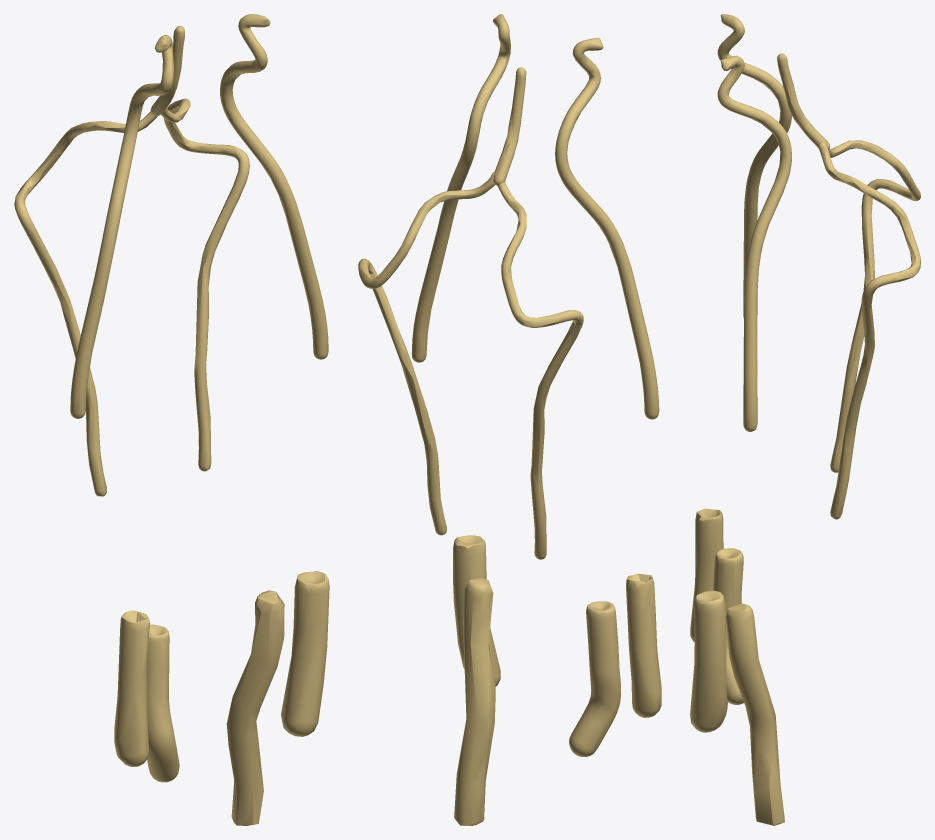
Rendered from head-neck.glb.
3 views of the same model, side by side, from view 1: azimuth 30°, elevation 25°; view 2: azimuth 150°, elevation 25°; view 3: azimuth 270°, elevation 25° (orthographic). The views are drawn at different scales.
Visible parts, largest first — view 1: bp3d_FMA4058_FJ3483, bp3d_FMA3949_FJ1682, bp3d_FMA4062_FJ1682M, bp3d_FMA4762_FJ3485, bp3d_FMA4066_FJ1725M, bp3d_FMA3958_FJ1725, bp3d_FMA4754_FJ3585, bp3d_FMA3941_FJ3564, bp3d_FMA50542_FJ1844; view 2: bp3d_FMA4058_FJ3483, bp3d_FMA3949_FJ1682, bp3d_FMA4066_FJ1725M, bp3d_FMA3958_FJ1725, bp3d_FMA4062_FJ1682M, bp3d_FMA3941_FJ3564, bp3d_FMA4754_FJ3585, bp3d_FMA4762_FJ3485, bp3d_FMA50542_FJ1844; view 3: bp3d_FMA4058_FJ3483, bp3d_FMA4062_FJ1682M, bp3d_FMA4066_FJ1725M, bp3d_FMA4762_FJ3485, bp3d_FMA3958_FJ1725, bp3d_FMA3949_FJ1682, bp3d_FMA4754_FJ3585, bp3d_FMA3941_FJ3564, bp3d_FMA50542_FJ1672, bp3d_FMA50542_FJ1844.
Part boxes in pixels (x1,y1,x2,y2): bp3d_FMA4058_FJ3483: (226,590,284,825); bp3d_FMA3949_FJ1682: (70,35,173,418); bp3d_FMA4062_FJ1682M: (220,14,328,359); bp3d_FMA4762_FJ3485: (281,571,329,736); bp3d_FMA4066_FJ1725M: (161,98,249,471); bp3d_FMA3958_FJ1725: (14,111,157,496); bp3d_FMA4754_FJ3585: (114,610,149,766); bp3d_FMA3941_FJ3564: (147,624,179,782); bp3d_FMA50542_FJ1844: (150,26,184,115); bp3d_FMA4058_FJ3483: (454,578,495,825); bp3d_FMA3949_FJ1682: (555,37,659,419); bp3d_FMA4066_FJ1725M: (358,171,494,535); bp3d_FMA3958_FJ1725: (497,181,583,559); bp3d_FMA4062_FJ1682M: (411,14,510,362); bp3d_FMA3941_FJ3564: (569,601,620,756); bp3d_FMA4754_FJ3585: (626,573,661,717); bp3d_FMA4762_FJ3485: (453,535,500,686); bp3d_FMA50542_FJ1844: (493,67,526,185); bp3d_FMA4058_FJ3483: (726,603,784,825); bp3d_FMA4062_FJ1682M: (717,55,791,431); bp3d_FMA4066_FJ1725M: (818,142,920,519); bp3d_FMA4762_FJ3485: (690,590,727,732); bp3d_FMA3958_FJ1725: (828,140,920,472); bp3d_FMA3949_FJ1682: (717,14,791,318); bp3d_FMA4754_FJ3585: (690,508,723,642); bp3d_FMA3941_FJ3564: (713,548,743,704); bp3d_FMA50542_FJ1672: (781,59,826,147); bp3d_FMA50542_FJ1844: (777,53,829,149).
Size of the model in its own units: 0.0749 by 0.2303 by 0.0635.
